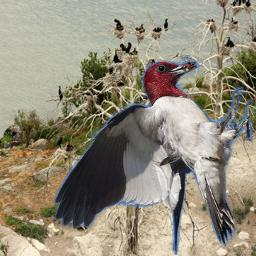Woodpecker: (54, 55, 253, 255)
